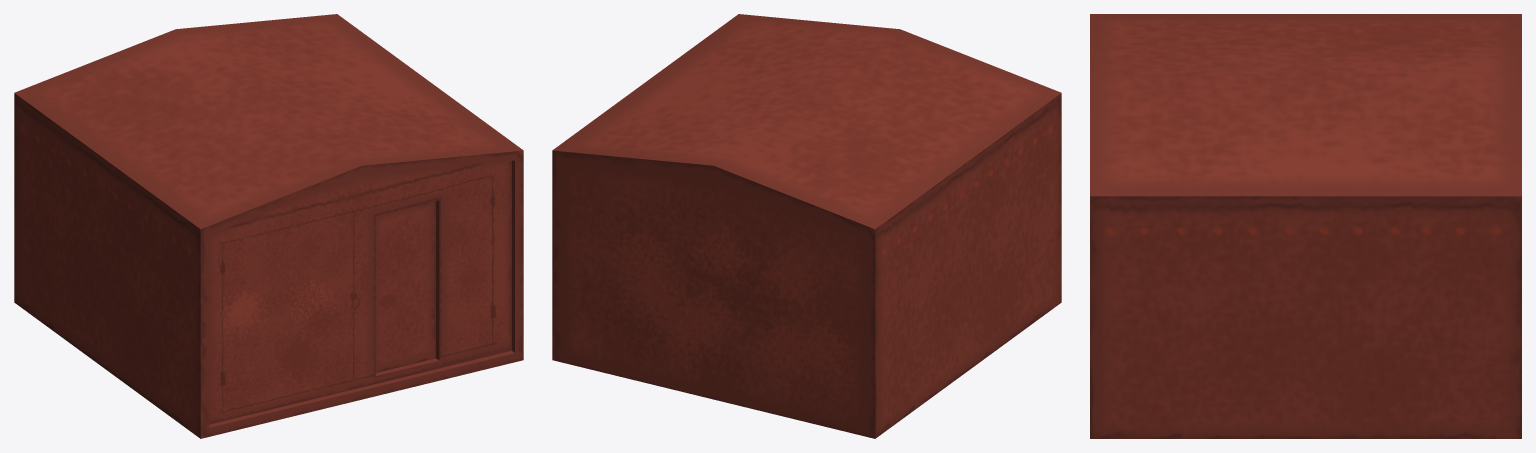
Rendered from garage.FBX.
3 renders of one model, left to right at view 1: azimuth 30°, elevation 25°; view 2: azimuth 150°, elevation 25°; view 3: azimuth 270°, elevation 25°, orthographic. The views are drawn at different scales.
Visible parts, largest first — view 1: Box001; view 2: Box001; view 3: Box001.
Part boxes in pixels (x1,y1,x2,y2): Box001: [14, 14, 523, 438]; Box001: [552, 14, 1061, 438]; Box001: [1090, 14, 1521, 438].
Size of the model in its own units: 5 by 3.46 by 5.
1 material, 1 textured.
